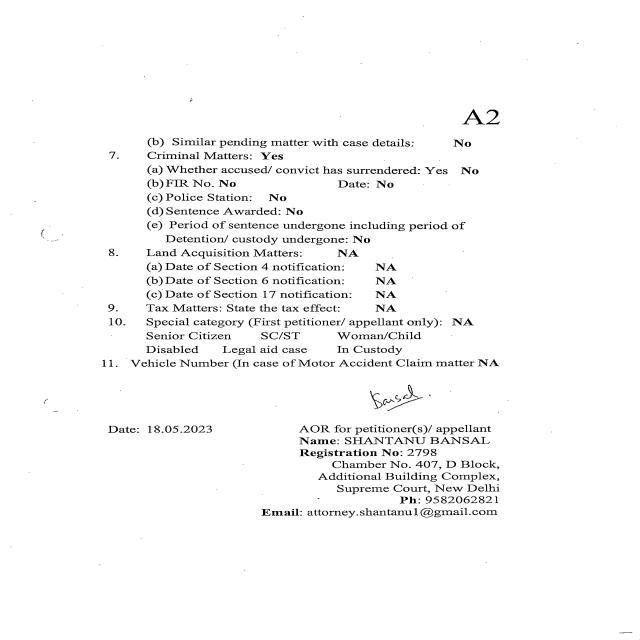page-number: (398, 0, 640, 135)
